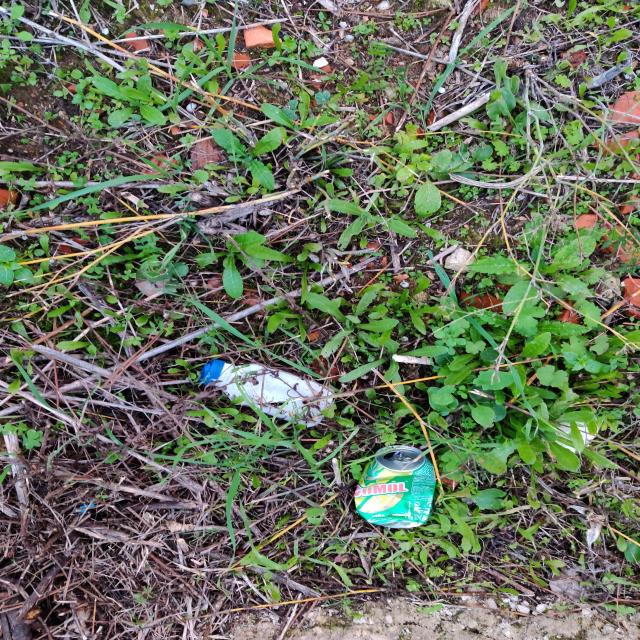litter: (205, 356, 339, 429), (349, 440, 449, 528)
